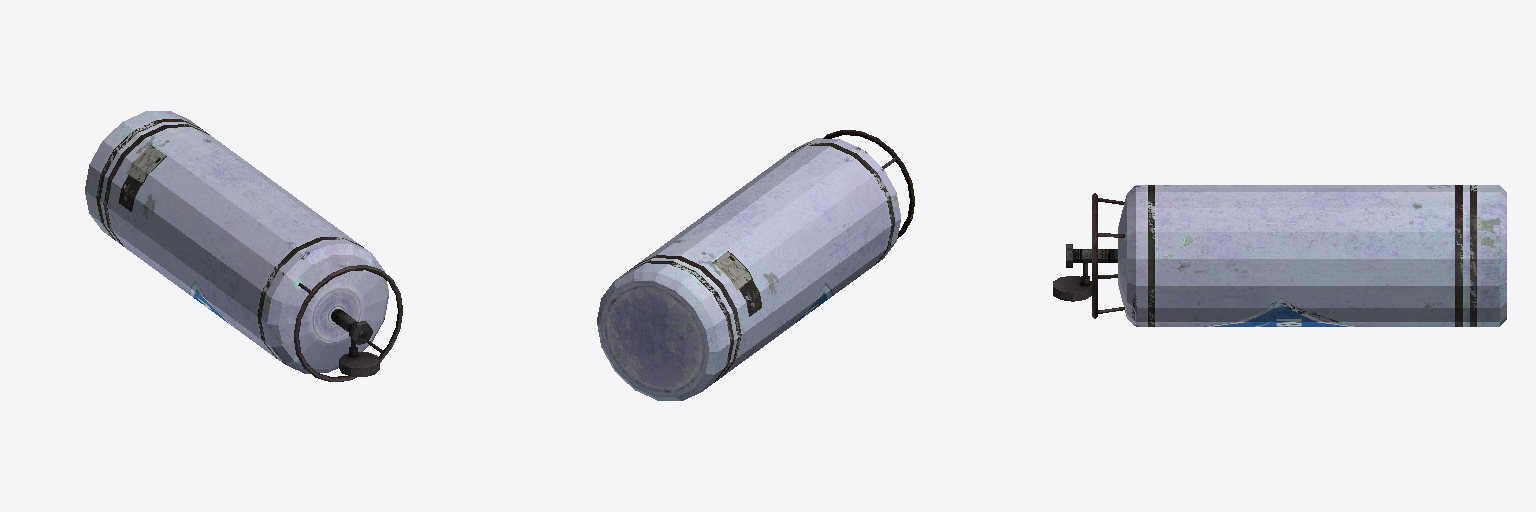
3 renders of one model, left to right at view 1: azimuth 30°, elevation 25°; view 2: azimuth 150°, elevation 25°; view 3: azimuth 270°, elevation 25°, orthographic.
Visible parts, largest first — view 1: mtl_pb_nitrogen_tank; view 2: mtl_pb_nitrogen_tank; view 3: mtl_pb_nitrogen_tank.
Part boxes in pixels (left/top/right/bottom): mtl_pb_nitrogen_tank: left=85, top=111, right=402, bottom=381; mtl_pb_nitrogen_tank: left=597, top=130, right=914, bottom=400; mtl_pb_nitrogen_tank: left=1053, top=185, right=1506, bottom=326.
Bounding box in the file's own units: 37.6 × 37.6 × 121.
1 materials, 1 textured.